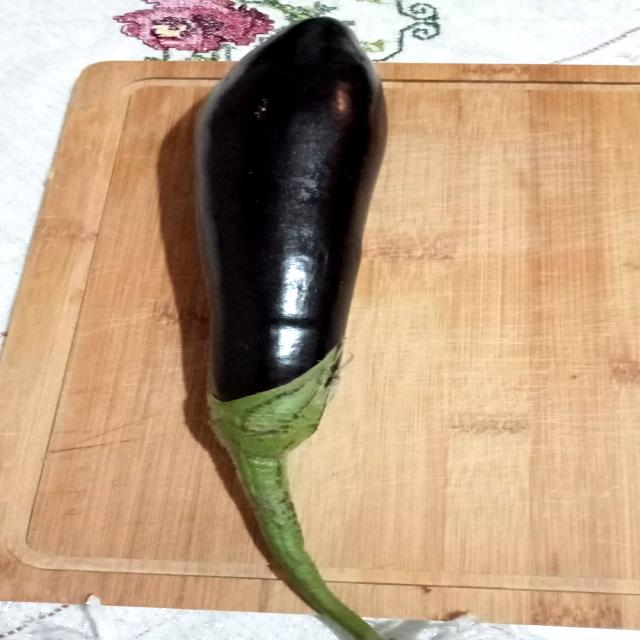eggplant: (158, 2, 413, 640)
